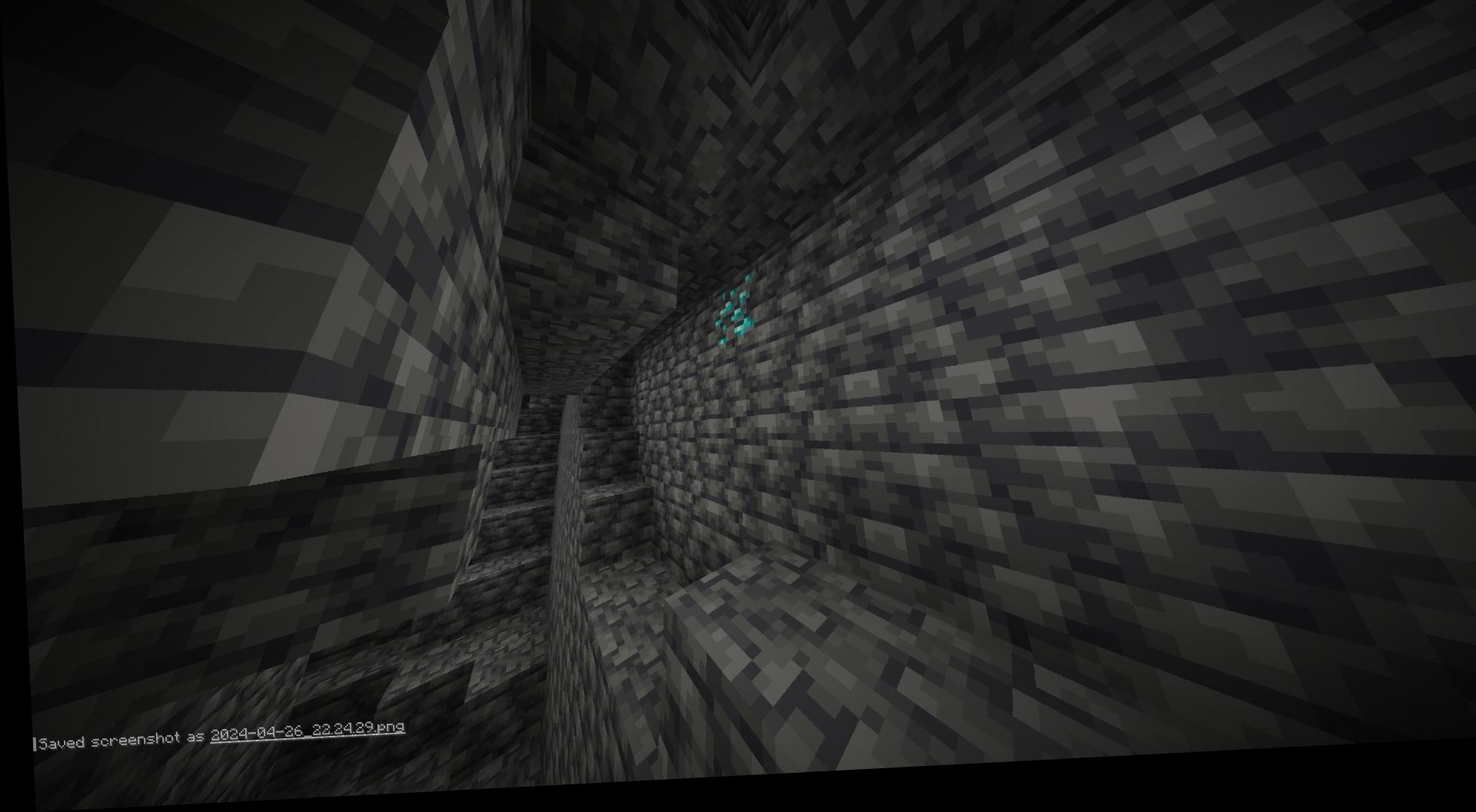diamond ore: (709, 284, 758, 353)
